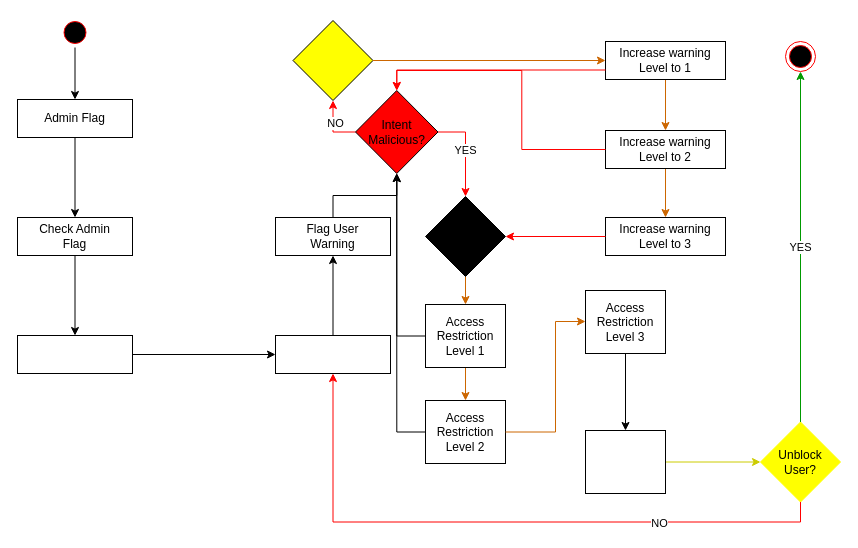
This 858x548 diagram has some shape labels left out. The box of each missing label's shape, as (x1, y1, x2, y2) in pixels:
Full User Block: (584, 430, 666, 494)
Malicious Flag: (424, 196, 506, 276)
Parse Admin Flag to User: (274, 334, 390, 374)
Parse Flag Origin: (16, 334, 132, 374)
Warning Flag: (292, 20, 373, 100)
